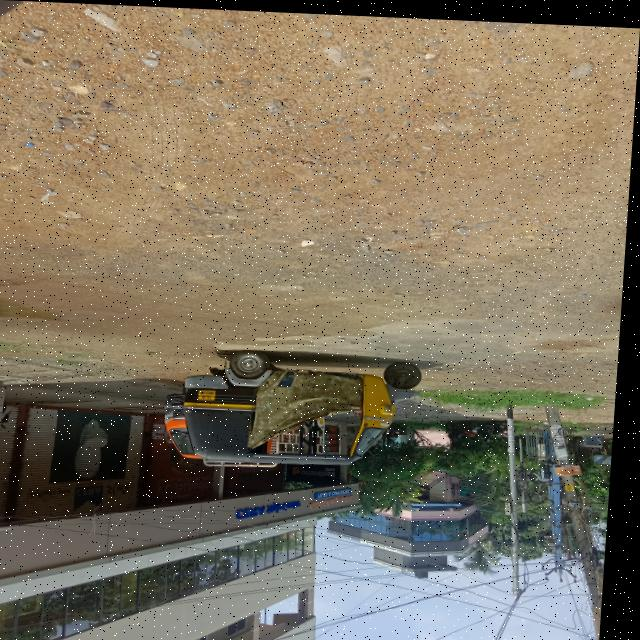plate: (203, 388, 222, 400)
